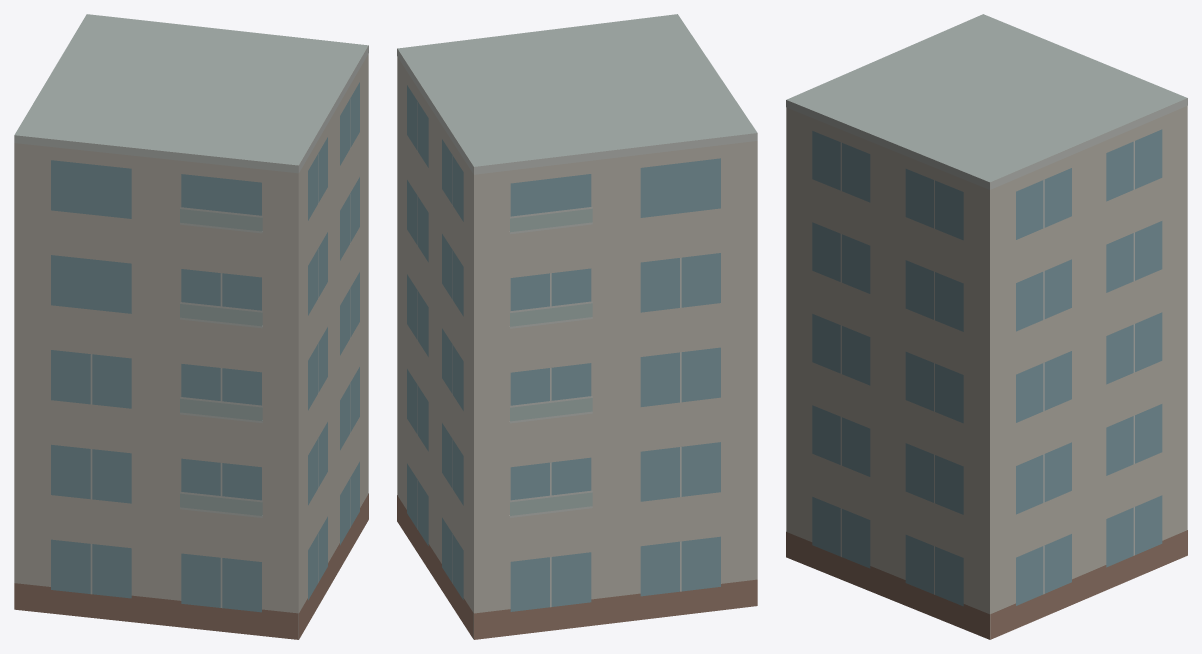
File: survey-upis-32691510.glb
The picture shows the model from 3 angles, left to right: view 1: azimuth 30°, elevation 25°; view 2: azimuth 150°, elevation 25°; view 3: azimuth 270°, elevation 25°; orthographic projection. The views are drawn at different scales.
Visible parts, largest first — view 1: survey-upis-32691510.tmp; view 2: survey-upis-32691510.tmp; view 3: survey-upis-32691510.tmp.
Boxes of the visible parts, left/top/right/bottom form: survey-upis-32691510.tmp: left=14, top=14, right=368, bottom=639; survey-upis-32691510.tmp: left=397, top=14, right=757, bottom=639; survey-upis-32691510.tmp: left=786, top=14, right=1187, bottom=639.
Size of the model in its own units: 11.65 by 14.75 by 11.74.
